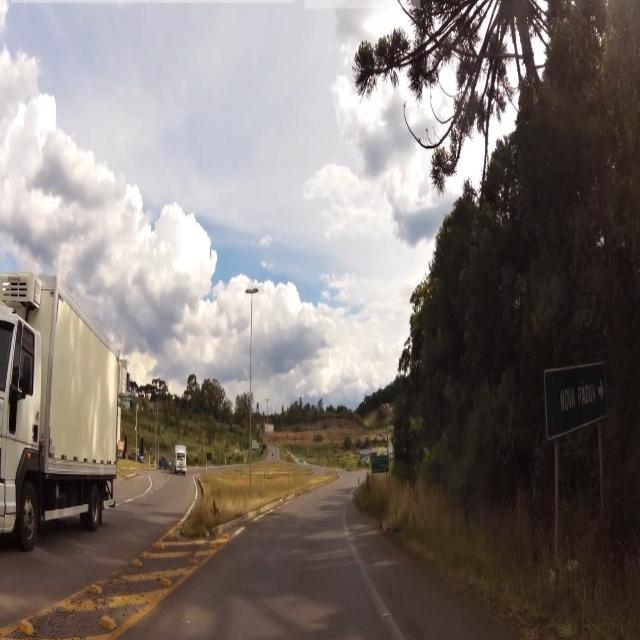I-4: (536, 374, 628, 426)
